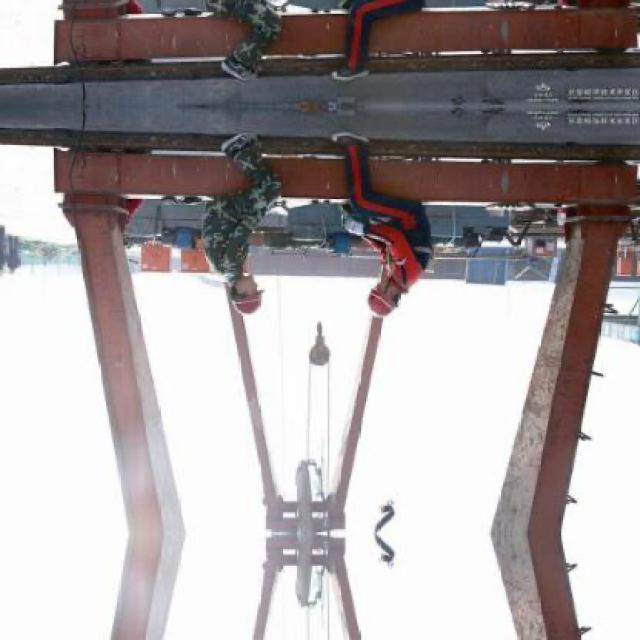con casco: (360, 264, 430, 329), (212, 264, 272, 326)
